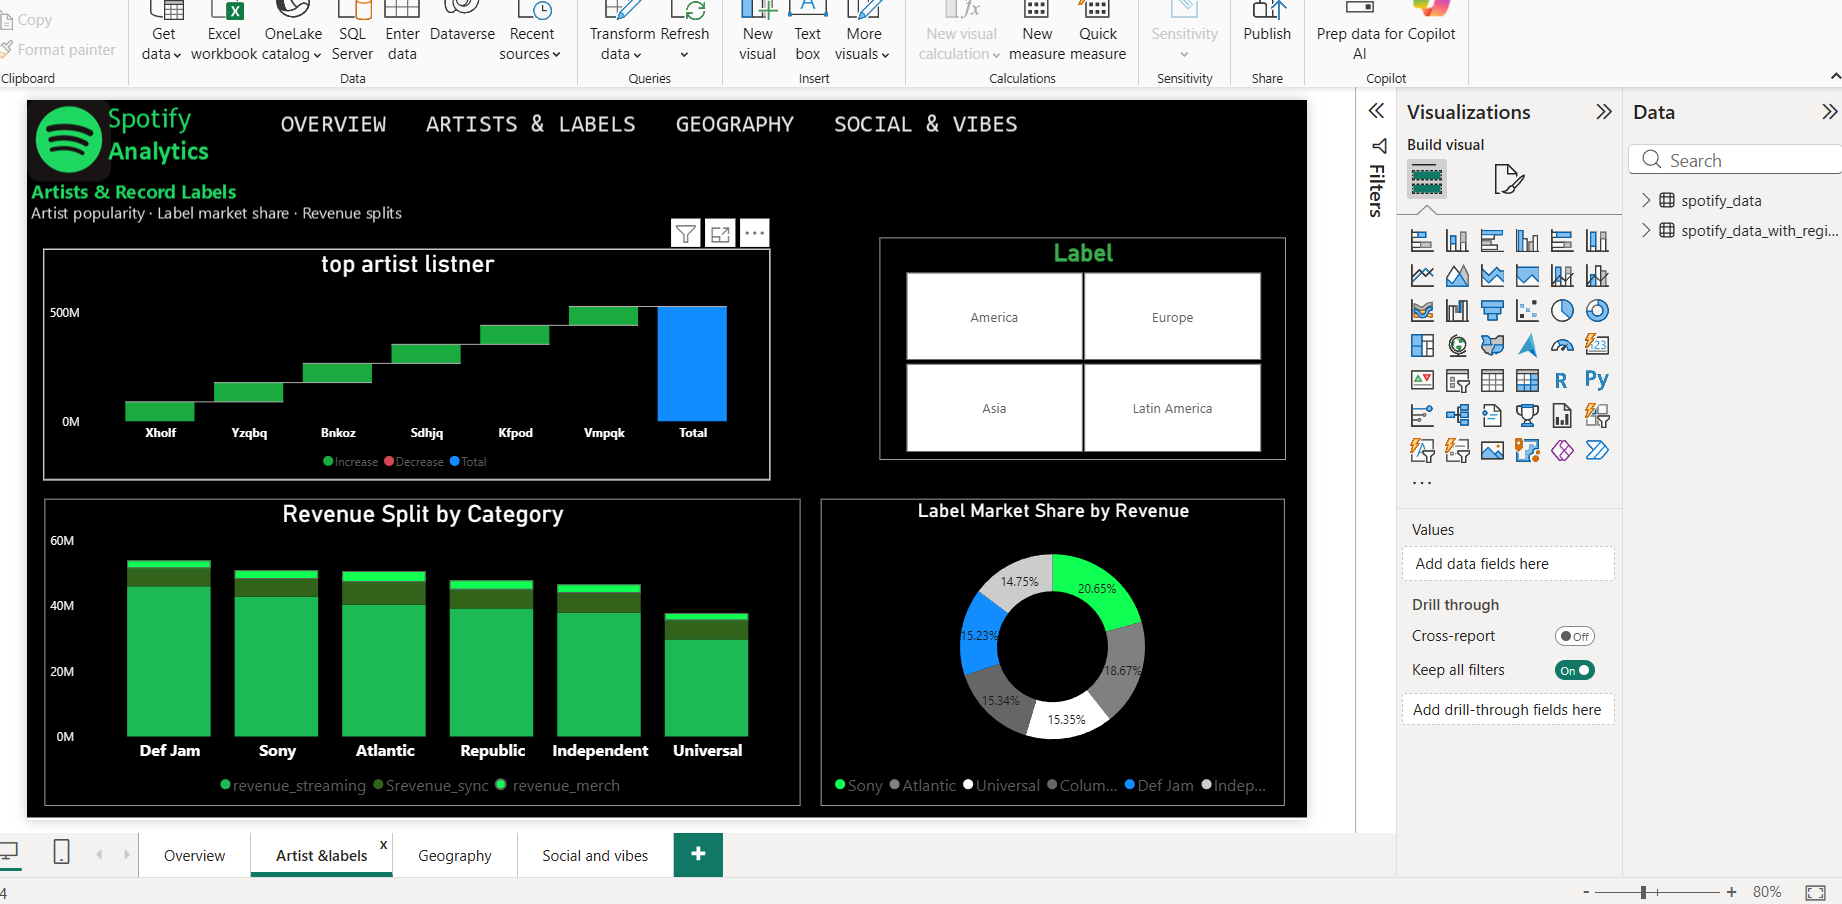

The page's visual inventory and layout, read from the dashboard file:
{"tool":"powerbi","page":{"name":"Artist &labels","canvas":[1280,720],"ordinal":1},"visuals":[{"type":"actionButton","box":[395.2,9.6,218.2,39.8],"z":0},{"type":"actionButton","box":[639.5,9.6,133.1,41.2],"z":1000},{"type":"actionButton","box":[247,9.6,122.1,39.8],"z":2000},{"type":"actionButton","box":[247,9.6,122.1,39.8],"z":3000},{"type":"actionButton","box":[794.5,9.6,222.3,39.8],"z":4000},{"type":"columnChart","title":"Revenue Split by Category","fields":{"Category":["spotify_data.album_label"],"Y":["Sum(spotify_data.revenue_streaming_usd)","Sum(spotify_data.revenue_sync_usd)","Sum(spotify_data.revenue_merch_usd)"]},"box":[17.1,398.6,755.7,307.1],"z":5000},{"type":"donutChart","title":"Label Market Share by Revenue","fields":{"Category":["spotify_data.album_label"],"Y":["Sum(spotify_data.revenue_total_usd)"]},"box":[794.3,398.6,464.3,307.1],"z":6000},{"type":"waterfallChart","title":"top artist listner","fields":{"Category":["spotify_data.artist_name"],"Y":["Sum(spotify_data.artist_monthly_listeners)"]},"box":[16.5,148.2,727.3,231.9],"z":7000},{"type":"slicer","title":"Label ","fields":{"Values":["spotify_data_with_regions.region"]},"box":[852.1,137.2,406.2,222.3],"z":8000}]}

Visuals, with their boxes on the page's 1280x720 design canvas (x1, y1, x2, y2). These are canvas units, not pixel positions in the 1842x904 screenshot, which may show the page scaled, cropped or inside an application window:
actionButton: BBox(395, 10, 613, 49)
actionButton: BBox(640, 10, 773, 51)
actionButton: BBox(247, 10, 369, 49)
actionButton: BBox(247, 10, 369, 49)
actionButton: BBox(794, 10, 1017, 49)
"Revenue Split by Category" columnChart: BBox(17, 399, 773, 706)
"Label Market Share by Revenue" donutChart: BBox(794, 399, 1259, 706)
"top artist listner" waterfallChart: BBox(16, 148, 744, 380)
"Label " slicer: BBox(852, 137, 1258, 360)
